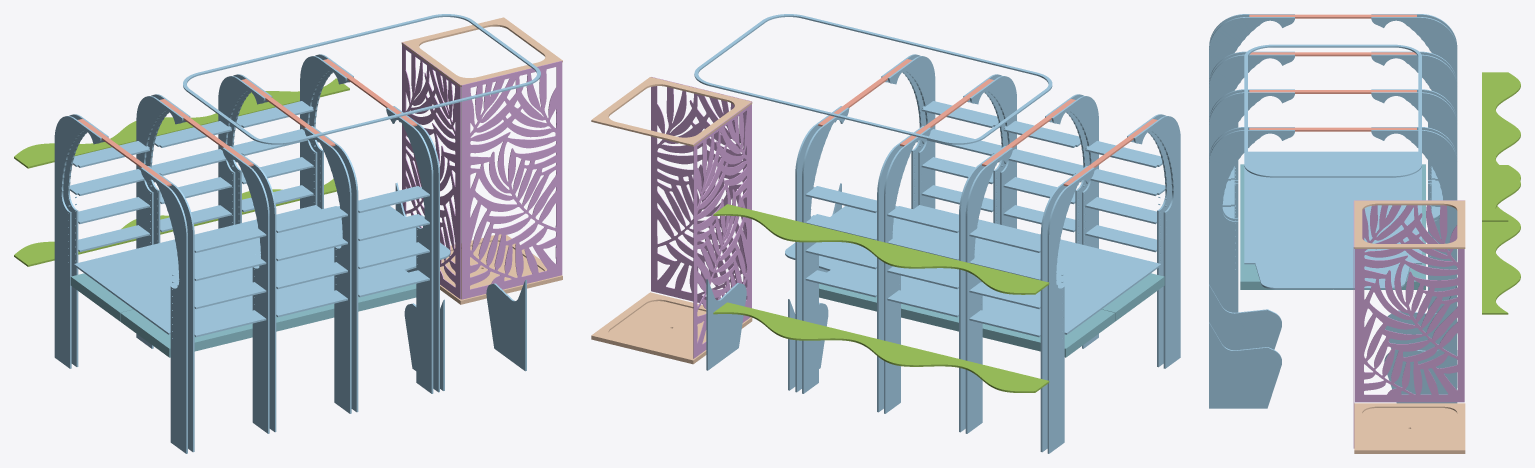
The model's file is BarbourSmith_Van-Build.glb.
3 views of the same model, side by side, from view 1: azimuth 30°, elevation 25°; view 2: azimuth 150°, elevation 25°; view 3: azimuth 270°, elevation 25° (orthographic). The views are drawn at different scales.
Parts seen in each view (by area): view 1: part-2, part-86, part-4, part-10, part-13, part-65, part-23, part-44, part-0, part-90, part-87, part-92 (+44 smaller); view 2: part-86, part-2, part-4, part-90, part-91, part-13, part-10, part-26, part-6, part-1, part-68, part-47 (+43 smaller); view 3: part-86, part-4, part-71, part-92, part-90, part-6, part-74, part-91, part-93, part-87, part-8, part-50 (+15 smaller).
Boxes of the visible parts, x1,y1,x2,y2 form: part-2: (461, 61, 562, 299); part-86: (74, 205, 450, 334); part-4: (402, 44, 460, 299); part-10: (140, 167, 187, 453); part-13: (54, 116, 101, 368); part-65: (386, 107, 433, 393); part-23: (222, 147, 269, 433); part-44: (304, 127, 351, 413); part-0: (120, 284, 416, 357); part-90: (14, 78, 349, 168); part-87: (183, 14, 540, 144); part-92: (486, 279, 526, 371); part-86: (785, 205, 1161, 334); part-2: (651, 77, 751, 303); part-4: (693, 104, 751, 358); part-90: (713, 204, 1049, 294); part-91: (713, 302, 1049, 392); part-13: (1047, 167, 1094, 453); part-10: (1133, 116, 1180, 368); part-26: (965, 147, 1012, 433); part-6: (591, 301, 752, 364); part-1: (819, 283, 1114, 357); part-68: (802, 107, 849, 393); part-47: (884, 127, 930, 413); part-86: (1244, 151, 1421, 289); part-4: (1355, 205, 1464, 402); part-71: (1209, 130, 1294, 312); part-92: (1209, 322, 1281, 408); part-90: (1482, 72, 1520, 221); part-6: (1354, 408, 1465, 453); part-74: (1371, 130, 1457, 313); part-91: (1482, 165, 1520, 314); part-93: (1209, 284, 1281, 350); part-87: (1244, 44, 1421, 177); part-8: (1354, 200, 1465, 248); part-50: (1209, 92, 1294, 219).
Size of the model in its own units: 3481 by 1910 by 2136.
